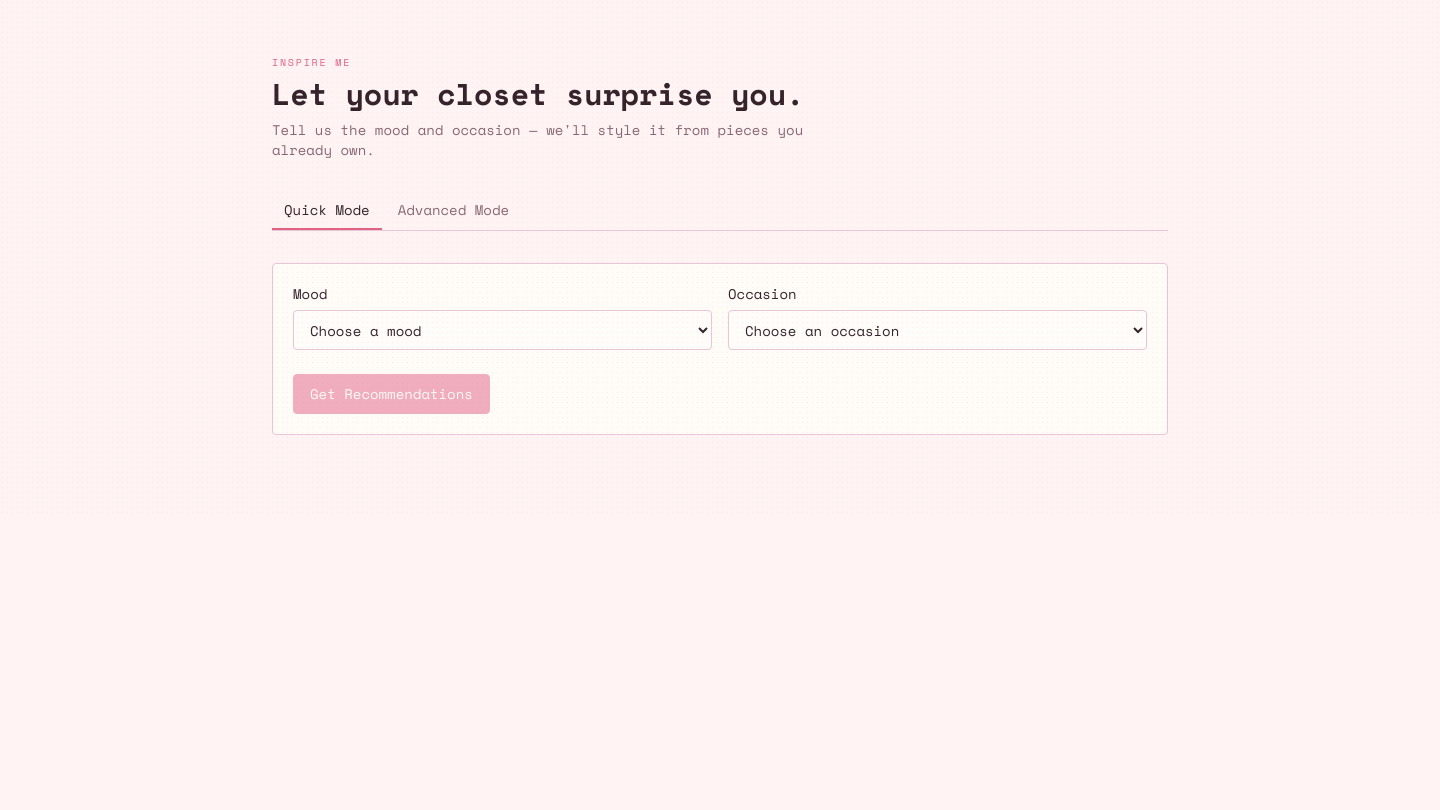
Test: InspireMePage › generates and displays a style card and recommendations
This screenshot has width=1440, height=810.
Select "Cozy" in the dropdown labelled "Mood": x=502, y=330 [293, 310, 712, 350]
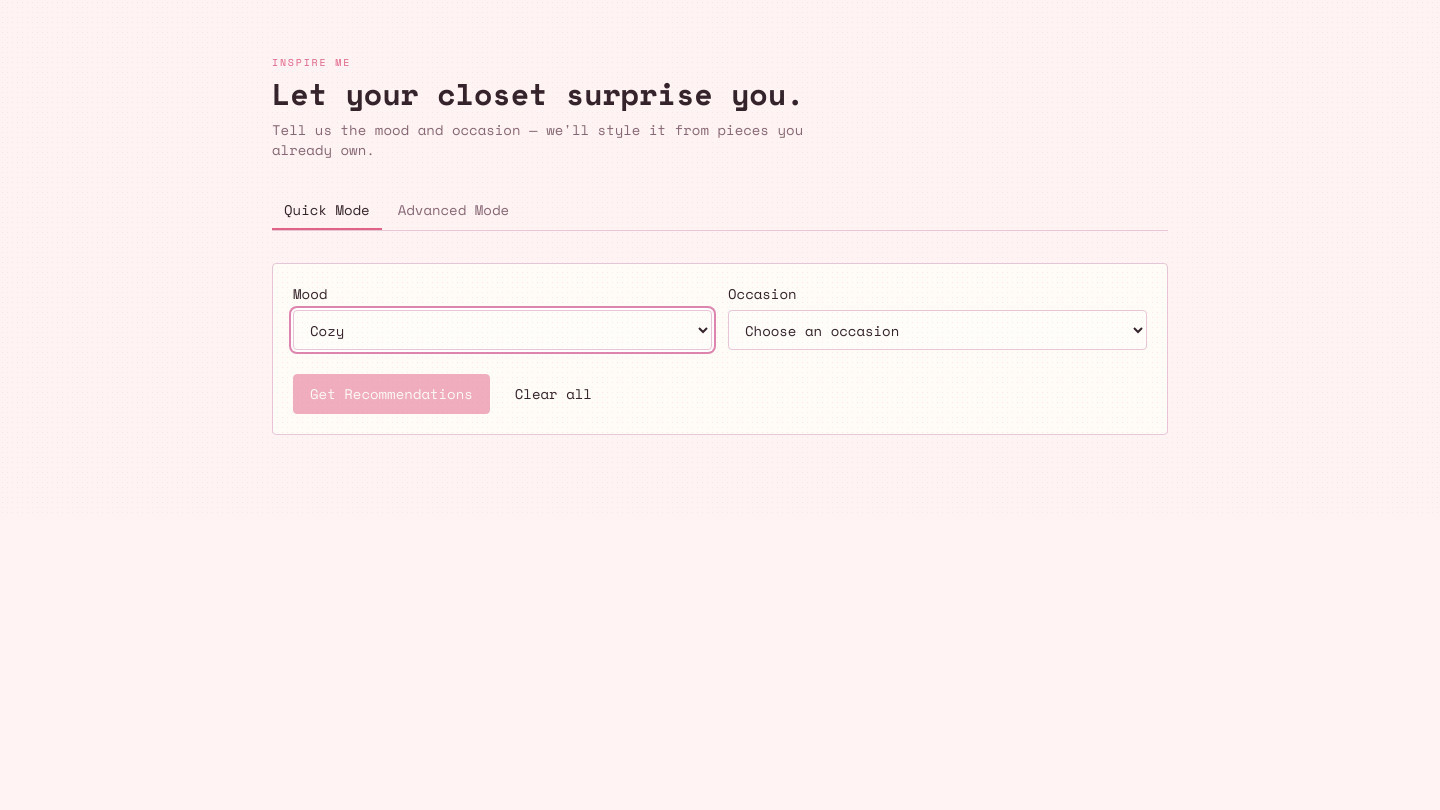
Select "Work" in the dropdown labelled "Occasion": x=938, y=330 [728, 310, 1147, 350]
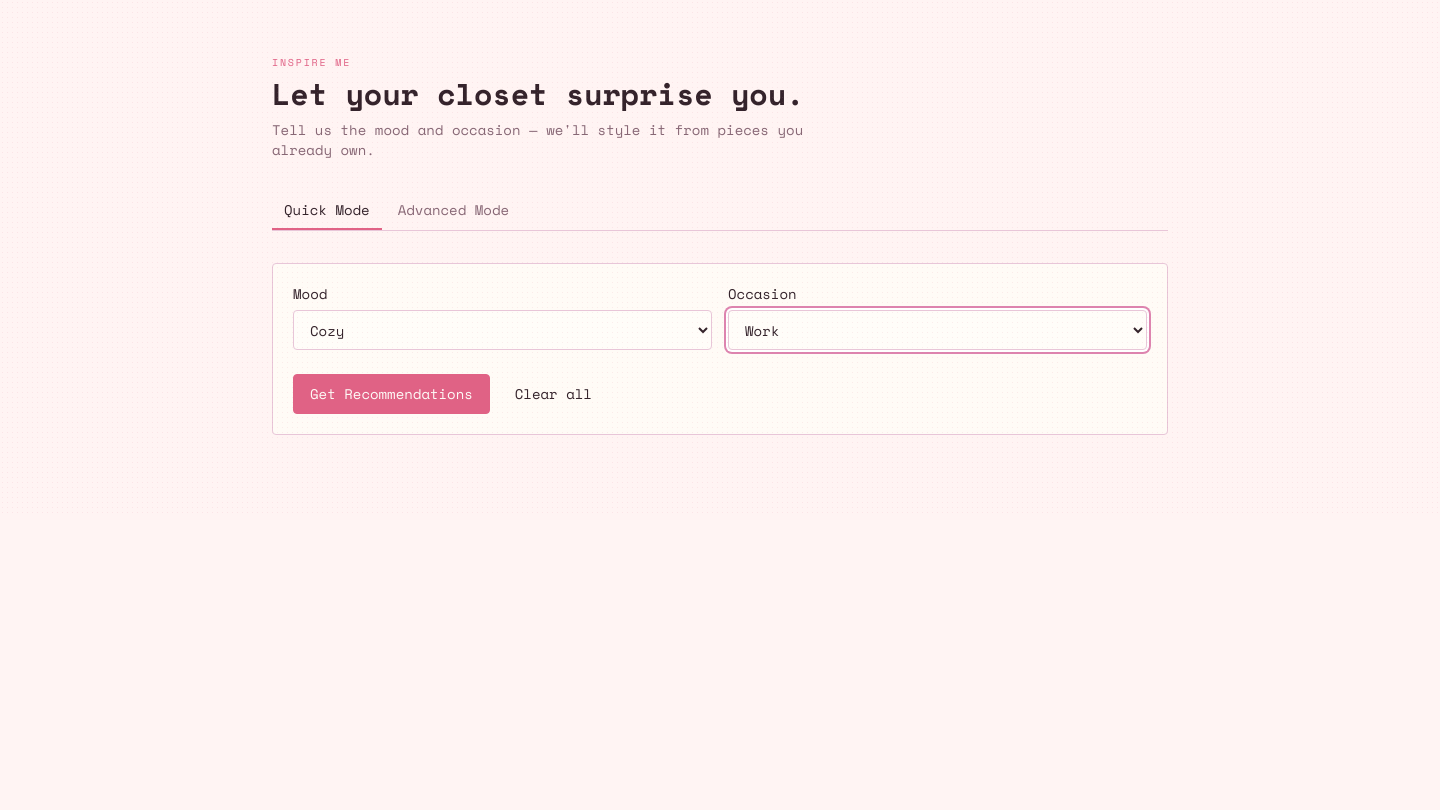
Click the button "Get Recommendations": x=391, y=394 [293, 374, 490, 414]
(page scrolled)
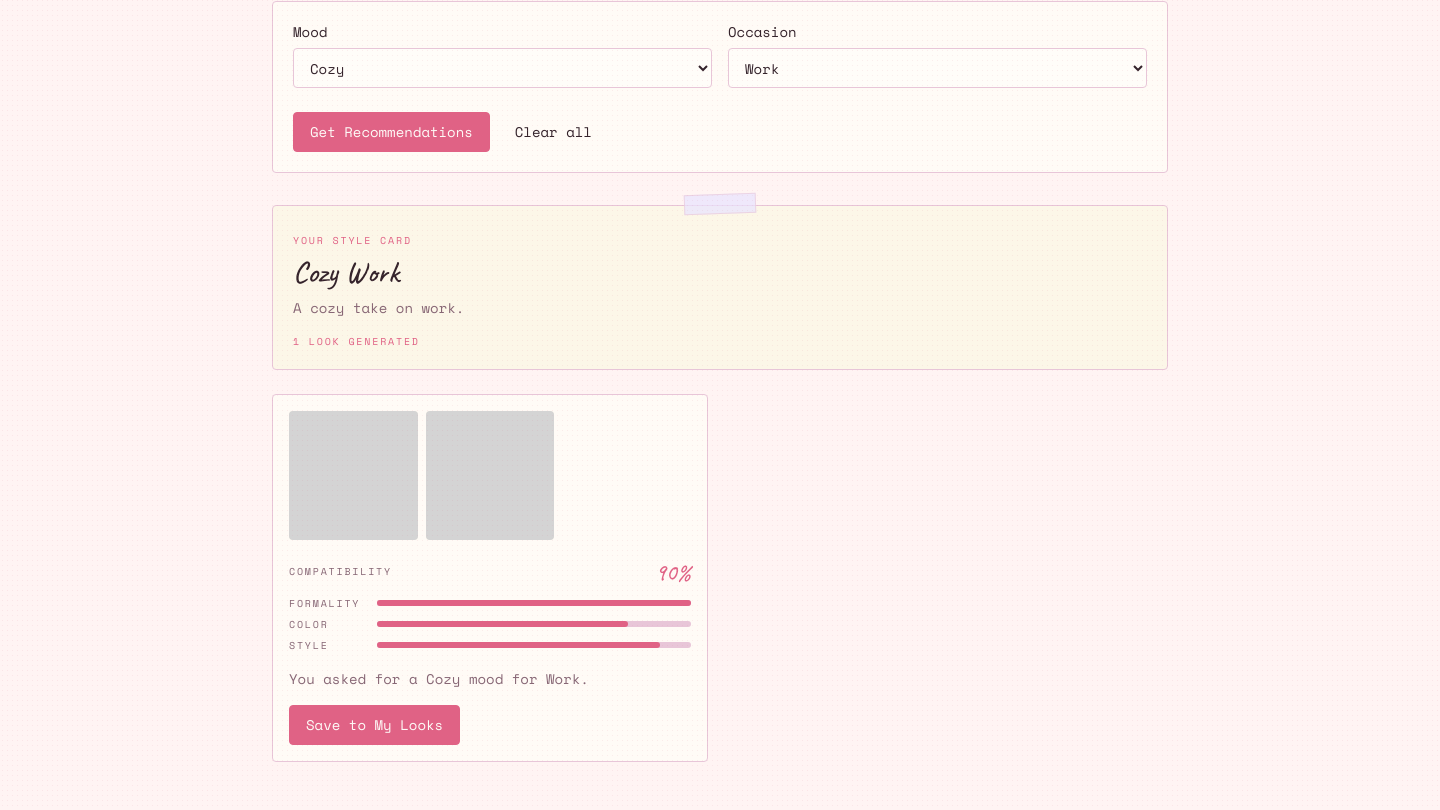
Result: the heading "Cozy Work" is shown at [293, 253, 399, 291]
Result: the list item "You asked for a Cozy mood for Work." is shown at [289, 668, 589, 689]
